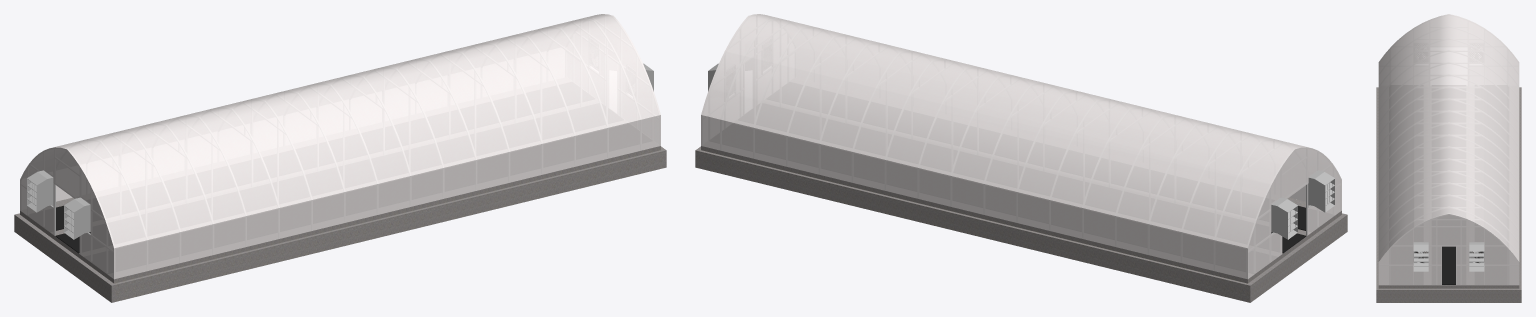
The model's file is greenhouse.dae.
3 views of the same model, side by side, from view 1: azimuth 30°, elevation 25°; view 2: azimuth 150°, elevation 25°; view 3: azimuth 270°, elevation 25° (orthographic). The views are drawn at different scales.
Parts seen in each view (by area): view 1: group_2, group_7, group_5, group_12 (×2); view 2: group_2, group_7, group_5, group_12 (×2); view 3: group_2, group_7, group_5, group_12 (×2), black_rubber_floor_pad (×3).
Boxes of the visible parts, x1,y1,x2,y2 form: group_2: [20, 14, 660, 279]; group_7: [14, 146, 666, 302]; group_5: [20, 146, 660, 283]; group_12 (×2): [27, 170, 90, 239]; group_2: [701, 14, 1341, 279]; group_7: [695, 146, 1347, 302]; group_5: [701, 146, 1341, 283]; group_12 (×2): [1271, 170, 1334, 239]; group_2: [1378, 14, 1519, 285]; group_7: [1376, 87, 1521, 302]; group_5: [1378, 251, 1519, 288]; group_12 (×2): [1413, 242, 1484, 271]; black_rubber_floor_pad (×3): [1442, 249, 1455, 284].
Size of the model in its own units: 846 by 246 by 163.
Materials: 7 (5 with a texture image).
